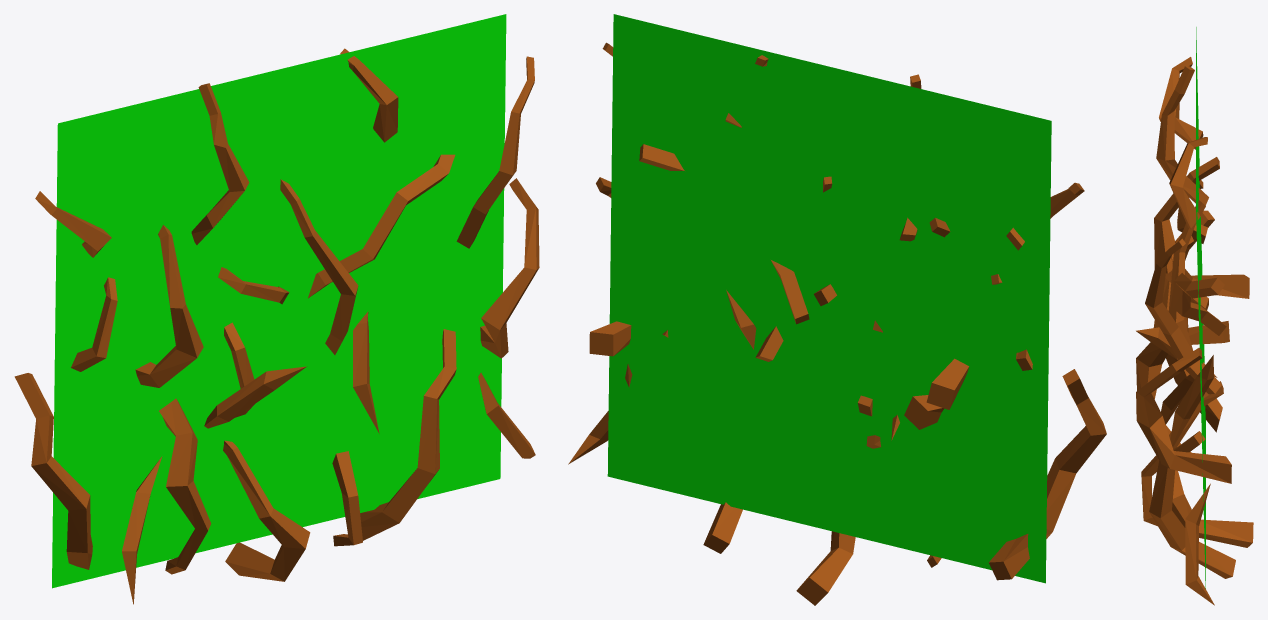
The model's file is Walls_NoTex 2.FBX.
3 views of the same model, side by side, from view 1: azimuth 30°, elevation 25°; view 2: azimuth 150°, elevation 25°; view 3: azimuth 270°, elevation 25° (orthographic). The views are drawn at different scales.
Visible parts, largest first — view 1: WholeWall_Test; view 2: WholeWall_Test; view 3: WholeWall_Test.
Part boxes in pixels (<box>): WholeWall_Test: <box>14,14,539,604</box>; WholeWall_Test: <box>568,14,1106,605</box>; WholeWall_Test: <box>1136,27,1253,605</box>.
Bounding box in the file's own units: 1171 × 1138 × 269.
